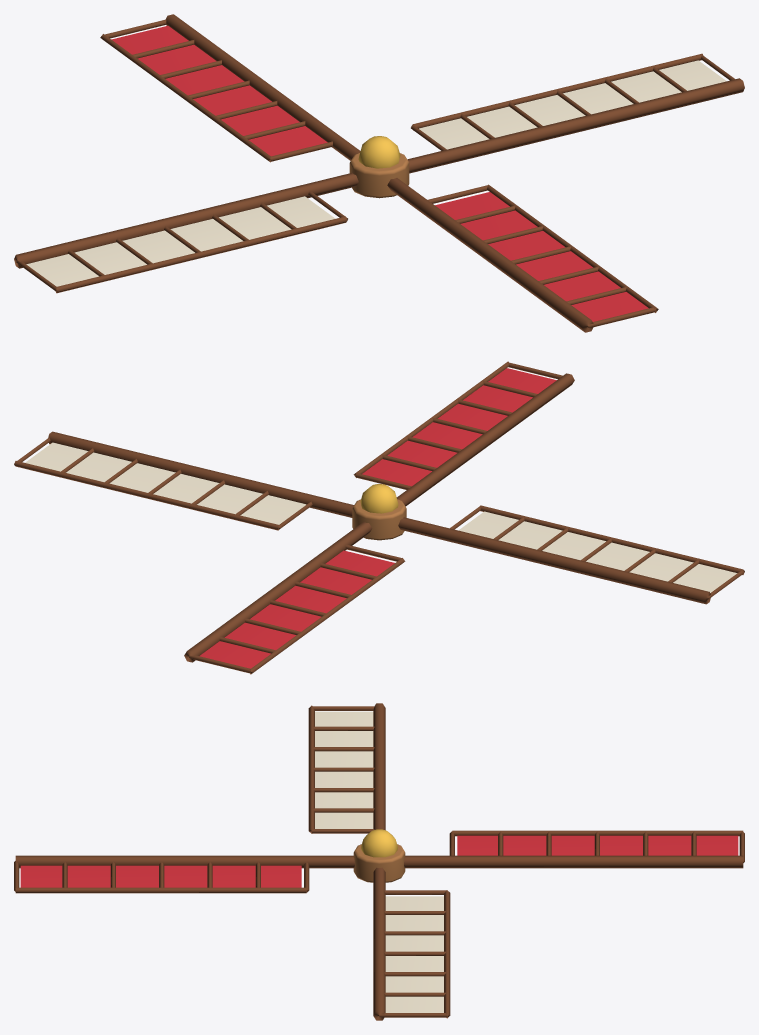
Rendered from faire_windmill_sails.glb.
The picture shows the model from 3 angles, top to bottom: view 1: azimuth 30°, elevation 25°; view 2: azimuth 150°, elevation 25°; view 3: azimuth 270°, elevation 25°; orthographic projection. The views are drawn at different scales.
Parts seen in each view (by area): view 1: Sails; view 2: Sails; view 3: Sails.
Boxes of the visible parts, x1,y1,x2,y2 form: Sails: (14,14,744,332); Sails: (14,361,744,674); Sails: (14,703,744,1020).
Bounding box in the file's own units: 14.06 × 0.91 × 14.06.
